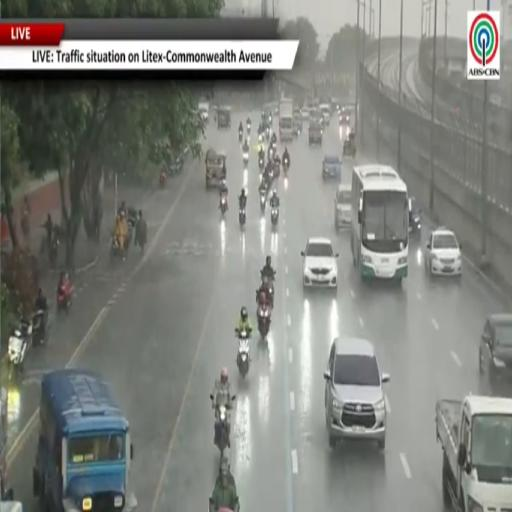bus: (351, 165, 410, 281)
car: (324, 338, 389, 450), (479, 313, 511, 386), (301, 237, 338, 289), (424, 227, 461, 276), (334, 183, 351, 229), (322, 155, 341, 180), (409, 197, 421, 234), (309, 120, 323, 145), (198, 101, 209, 123), (339, 107, 350, 125), (301, 107, 309, 120)
jeepney: (206, 149, 226, 188), (217, 106, 230, 129)
motorcycle: (8, 322, 32, 375), (213, 404, 230, 456), (236, 330, 250, 377), (56, 280, 74, 314), (257, 298, 271, 339), (32, 310, 47, 345), (261, 271, 275, 307), (110, 236, 125, 262), (209, 498, 239, 511), (50, 233, 59, 267), (271, 207, 278, 228), (239, 207, 246, 227), (273, 158, 280, 178), (260, 190, 266, 213), (220, 197, 227, 215), (159, 170, 166, 187), (283, 159, 289, 175), (243, 152, 248, 168), (259, 156, 264, 172), (267, 113, 273, 125), (265, 126, 270, 140), (247, 123, 251, 135), (272, 141, 276, 153), (239, 131, 242, 142)
truck: (33, 370, 137, 511), (436, 395, 511, 511), (279, 98, 293, 141), (0, 502, 22, 511)
